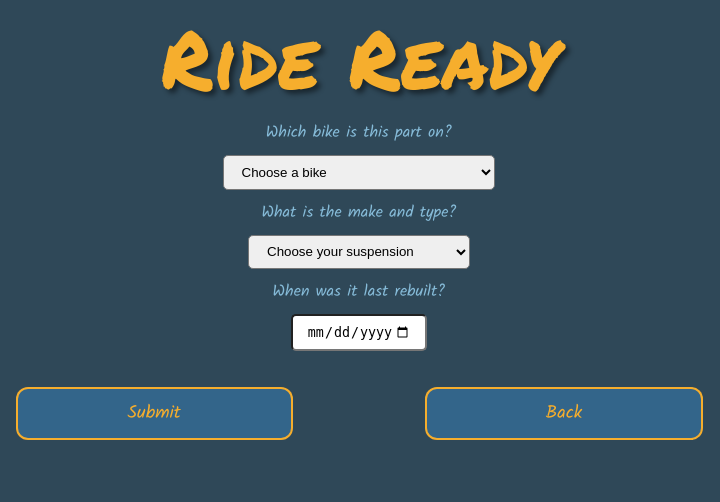
Test: add-new-part › Should not allow a user to submit a new part without suspension selected
This screenshot has width=720, height=502.
Select "1" in the 1st dropdown named "bikeSelect" at (359, 172), box 223,155 -> 495,189
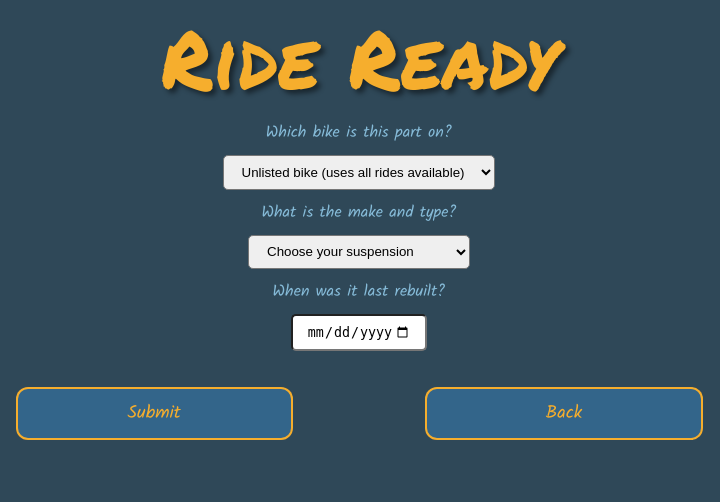
Type "2023-01-01" into the date field named "lastRebuild" at (359, 333), box 291,314 -> 427,351
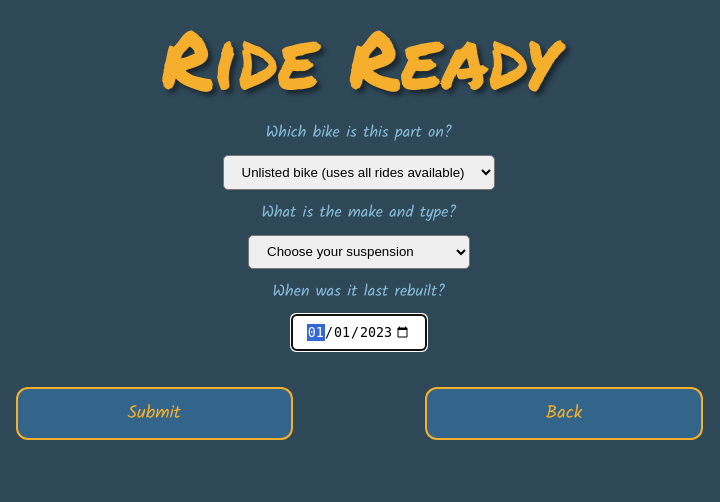
Click the button "Submit" at (155, 414), box 18,389 -> 291,438
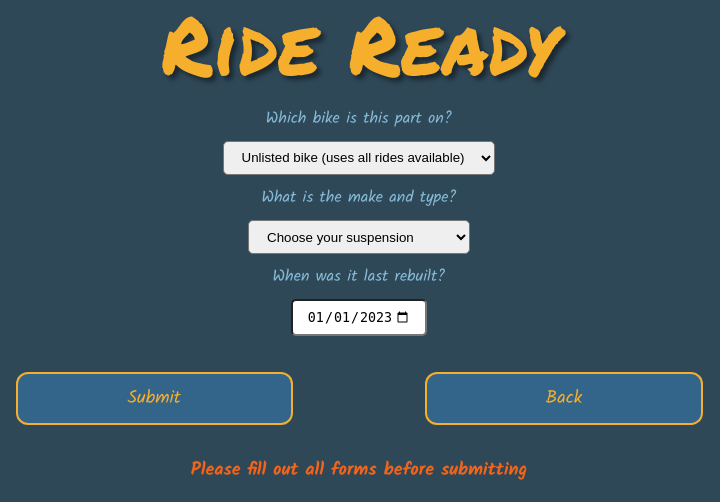
Check: the text "Please fill out all forms before submitting" is shown, box 191,456 -> 527,485
